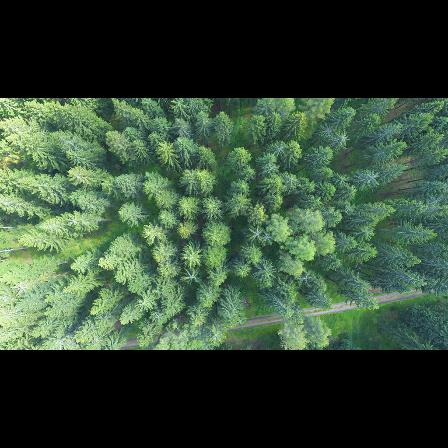Sick: (362, 168, 383, 188), (179, 268, 201, 286), (207, 328, 227, 345), (294, 272, 313, 288), (319, 126, 337, 139), (262, 231, 276, 247), (264, 161, 278, 177), (149, 312, 166, 325), (273, 143, 287, 158), (249, 227, 264, 240), (334, 134, 349, 146)
